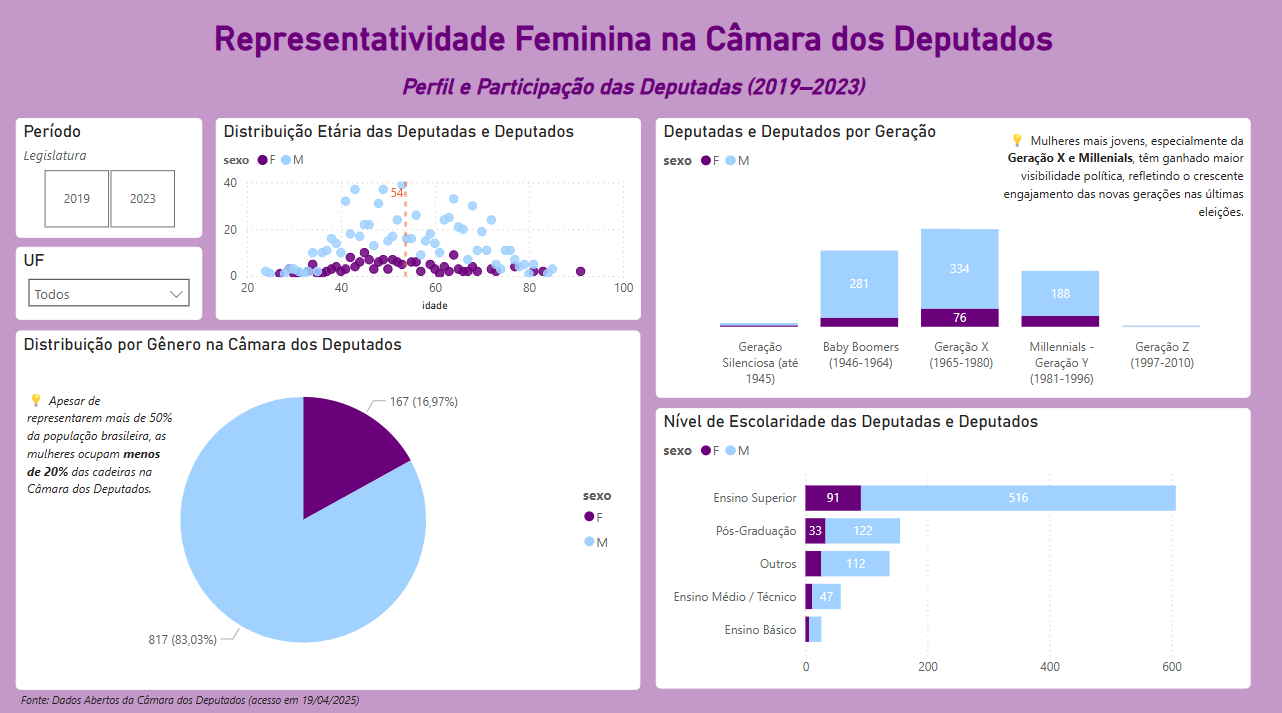

Layout of this report page (visuals, bound fields, positions):
{"tool":"powerbi","page":{"name":"1. Deputadas","canvas":[1280,720],"ordinal":0},"visuals":[{"type":"pieChart","title":"Distribuição por Gênero na Câmara dos Deputados","fields":{"Y":["CountNonNull(deputadas.id)"],"Category":["deputadas.sexo"]},"box":[18.6,335.6,621.8,358],"z":0},{"type":"columnChart","title":"Deputadas e Deputados por Geração","fields":{"Series":["deputadas.sexo"],"Y":["CountNonNull(deputadas.id)"],"Category":["deputadas.geração"]},"box":[655.2,125,592.3,278.3],"z":1000},{"type":"barChart","title":"Nível de Escolaridade das Deputadas e Deputados","fields":{"Category":["deputadas.EscolaridadeAgrupada"],"Series":["deputadas.sexo"],"Y":["CountNonNull(deputadas.id)"]},"box":[655.2,413.5,592.3,279.4],"z":2000},{"type":"slicer","title":"UF","fields":{"Values":["deputadas.siglaUf"]},"box":[19.3,253.1,185.2,72.4],"z":3000},{"type":"card","title":"Análise da Igualdade de Gênero na Câmara dos Deputados","fields":{"Values":["Min(TituloPagina.Titulo)"]},"box":[19.3,11.2,1227.2,63],"z":4000},{"type":"slicer","title":"Período","fields":{"Values":["deputadas.anoInicioLegislatura"]},"box":[19.3,124.7,185.2,119.2],"z":5000},{"type":"scatterChart","title":"Distribuição Etária das Deputadas e Deputados","fields":{"X":["deputadas.idade"],"Series":["deputadas.sexo"],"Size":["select"],"Y":["CountNonNull(deputadas.id)"]},"box":[217.2,124.9,423.2,200.4],"z":6000},{"type":"card","title":"Análise da Igualdade de Gênero na Câmara dos Deputados","fields":{"Values":["Min(TituloPagina.Subtitulo1)"]},"box":[18.3,74.2,1227.2,36.6],"z":7000},{"type":"textbox","box":[19,688.3,1228.7,31.7],"z":8000},{"type":"textbox","box":[24.3,391,155.6,154.7],"z":9000},{"type":"textbox","box":[958.5,131.5,286.5,103.4],"z":10000}]}

Visuals, with their boxes in screenshot pixels (x1, y1, x2, y2), scaled from the page's 1280x720 canvas onto the 1282x713 screenshot:
"Distribuição por Gênero na Câmara dos Deputados" pieChart: <box>19,332,641,687</box>
"Deputadas e Deputados por Geração" columnChart: <box>656,124,1249,399</box>
"Nível de Escolaridade das Deputadas e Deputados" barChart: <box>656,409,1249,686</box>
"UF" slicer: <box>19,251,205,322</box>
"Análise da Igualdade de Gênero na Câmara dos Deputados" card: <box>19,11,1248,73</box>
"Período" slicer: <box>19,123,205,242</box>
"Distribuição Etária das Deputadas e Deputados" scatterChart: <box>218,124,641,322</box>
"Análise da Igualdade de Gênero na Câmara dos Deputados" card: <box>18,73,1247,110</box>
textbox: <box>19,682,1250,712</box>
textbox: <box>24,387,180,540</box>
textbox: <box>960,130,1247,233</box>
